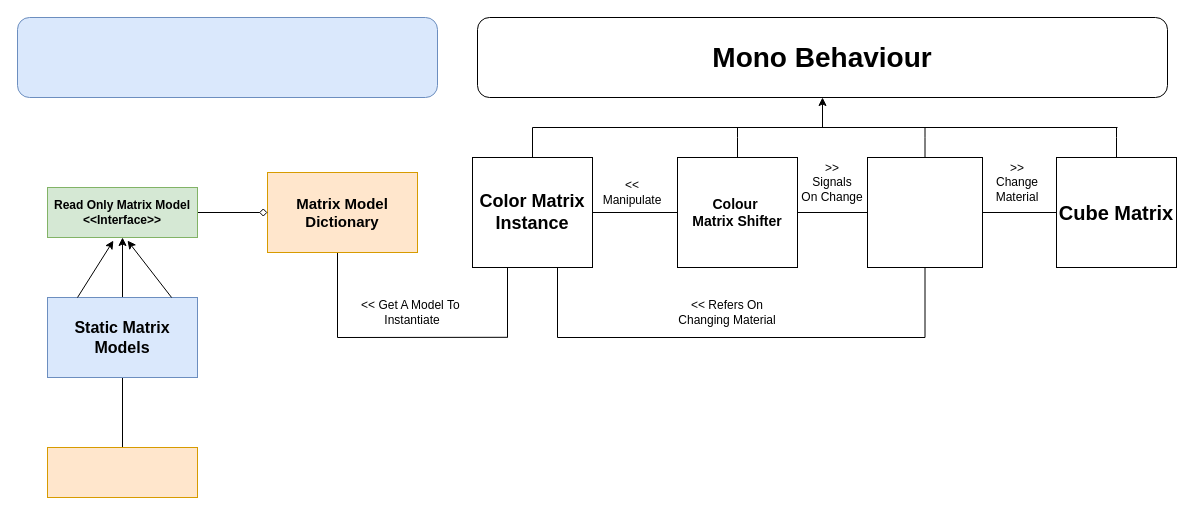
Some shapes in this 1194 by 515 pixel diagram are drawn without their labels. Each missing label, with the centre of its shape:
"Manual" goes at point (122, 472).
"Signal Processor" goes at point (924, 212).
"Static Classes" goes at point (227, 57).
